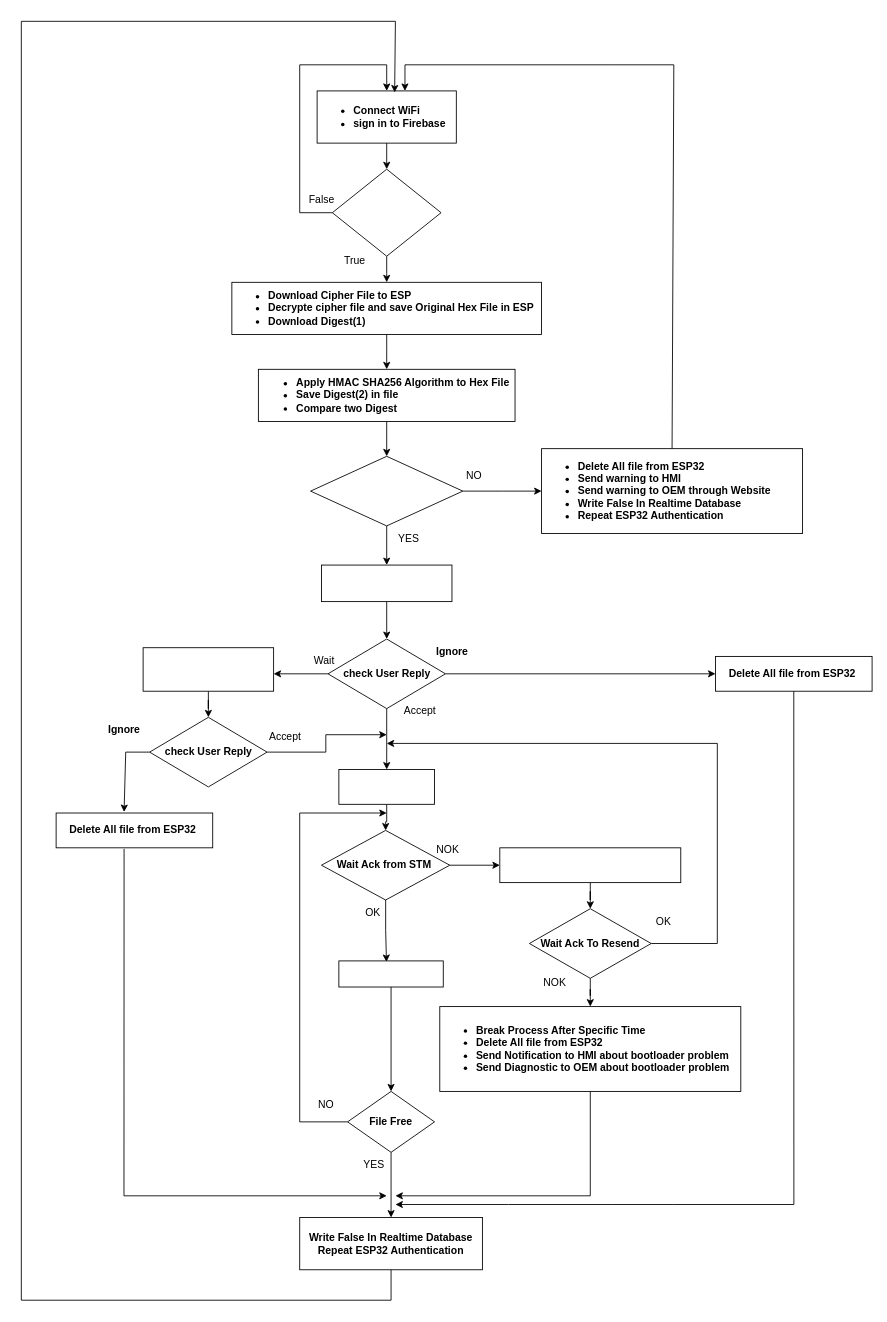
Image size: 887x1322. Some labels were removed from this diagram. The centre of each missing label's shape, as x and y in pixels:
"Break Process After Specific Time" goes at point (590, 865).
"Check Realtime Database" goes at point (386, 212).
"Digest(1)==Digest(2)?" goes at point (386, 490).
"Parsing HEX File" goes at point (386, 786).
"send notification to HMI" goes at point (386, 583).
"Send Record" goes at point (390, 973).
"Wait For New Reply" goes at point (208, 669).
